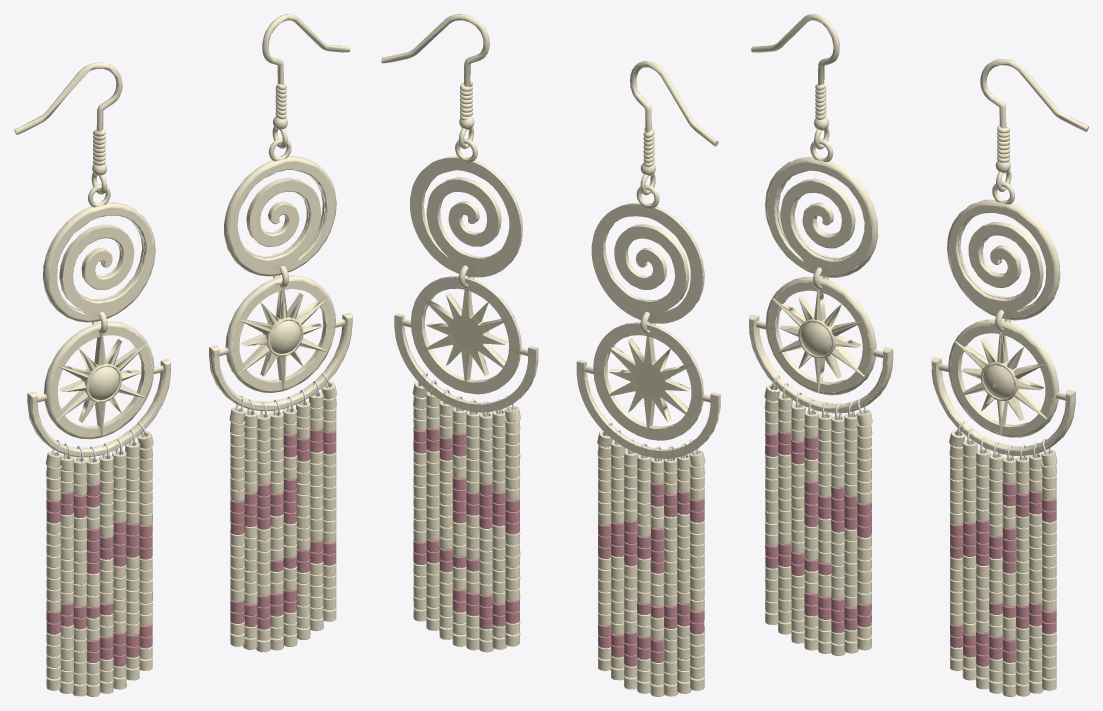
The model's file is hitit-sembol-earrings_compressed.glb.
The picture shows the model from 3 angles, left to right: view 1: azimuth 30°, elevation 25°; view 2: azimuth 150°, elevation 25°; view 3: azimuth 330°, elevation 25°; orthographic projection.
Parts seen in each view (by area): view 1: Mesh_2.009; view 2: Mesh_2.009; view 3: Mesh_2.009.
Part boxes in pixels (<box>): Mesh_2.009: <box>14,14,352,696</box>; Mesh_2.009: <box>381,14,720,696</box>; Mesh_2.009: <box>749,14,1088,696</box>.
Size of the model in its own units: 42.11 by 75.95 by 3.95.
